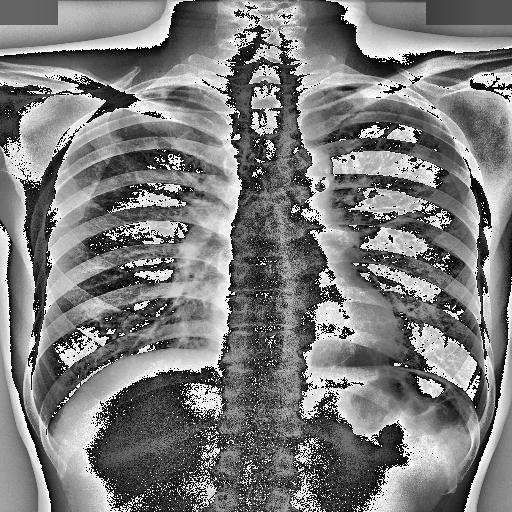10- Pleural effusion: (466, 416, 485, 446)
11- Pleural thickening: (134, 85, 190, 100), (395, 90, 425, 112), (466, 416, 485, 446)
13- Pulmonary fibrosis: (308, 210, 440, 249), (326, 210, 419, 252), (363, 100, 412, 146), (376, 102, 416, 148), (372, 108, 408, 145), (102, 133, 142, 151), (440, 168, 460, 184)
2- Calcification: (312, 163, 336, 191), (316, 164, 336, 192)
7- Lung Opacity: (438, 174, 458, 184)
9- Other lesion: (312, 163, 336, 191)
